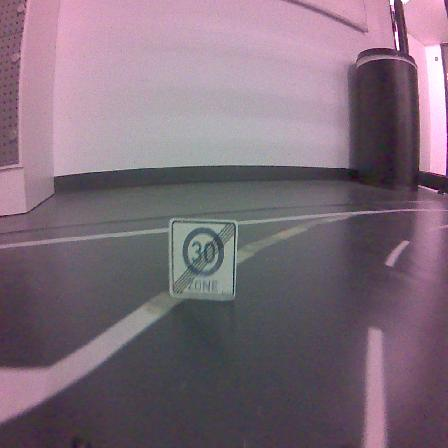30_ZONE_END: (169, 219, 237, 300)
